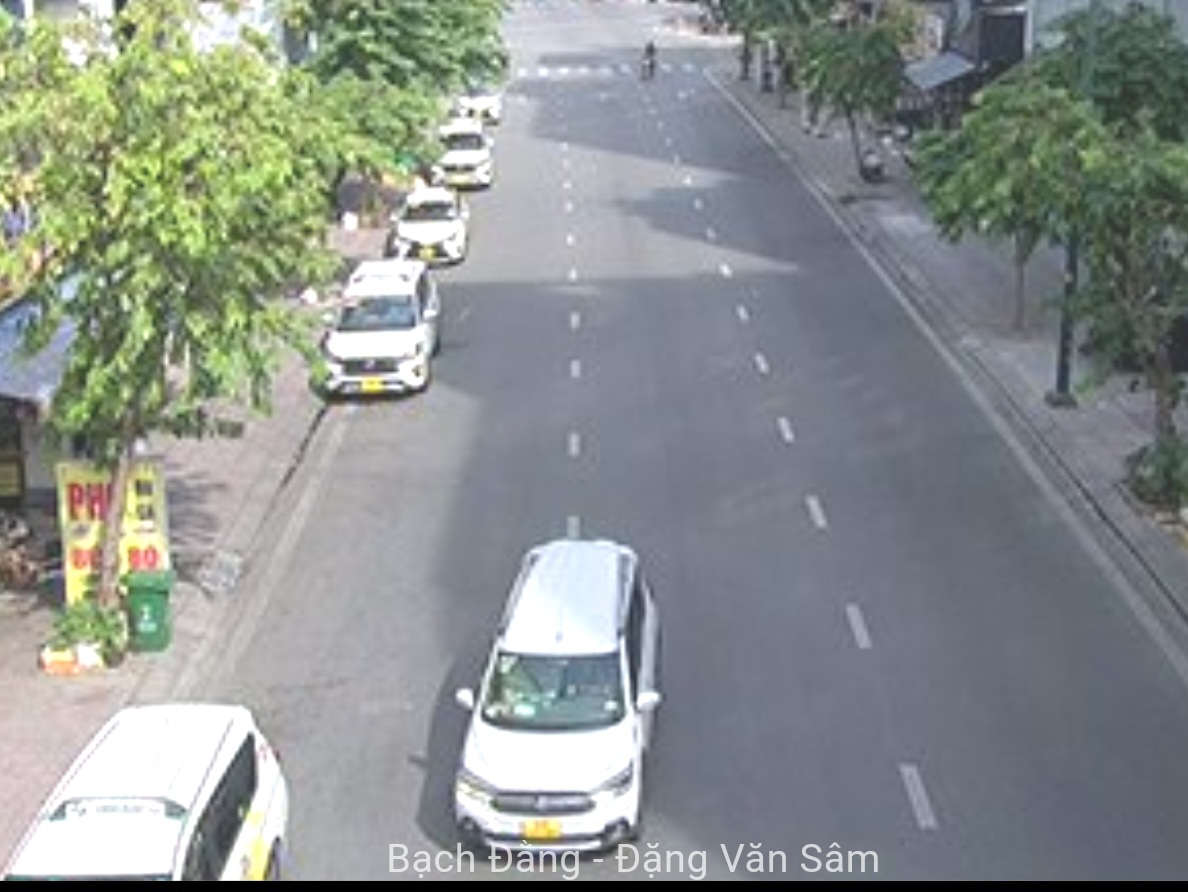car: (423, 537, 662, 841), (314, 255, 436, 405), (389, 187, 473, 265), (430, 119, 494, 192)
